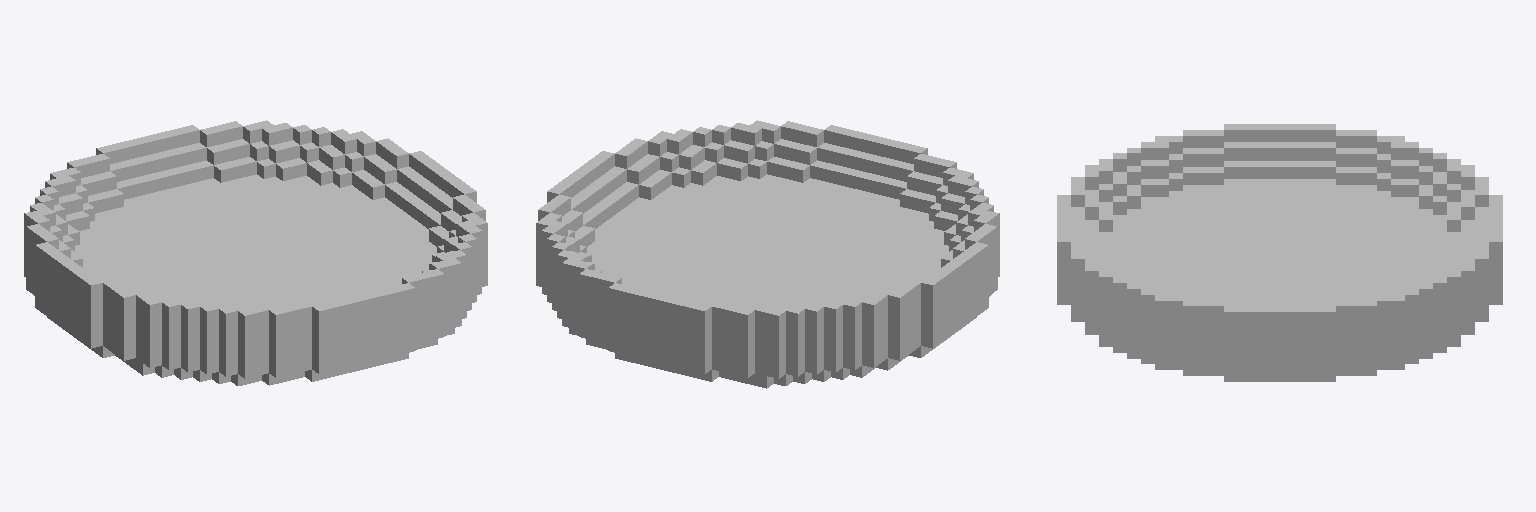
Rendered from Dish.obj.
The picture shows the model from 3 angles: view 1: azimuth 30°, elevation 25°; view 2: azimuth 150°, elevation 25°; view 3: azimuth 270°, elevation 25°; orthographic projection.
Visible parts, largest first — view 1: object 1; view 2: object 1; view 3: object 1.
Boxes of the visible parts, <box> form: object 1: <box>24,120,487,385</box>; object 1: <box>536,120,999,388</box>; object 1: <box>1057,124,1502,381</box>.
Size of the model in its own units: 3.2 by 0.6 by 3.2.